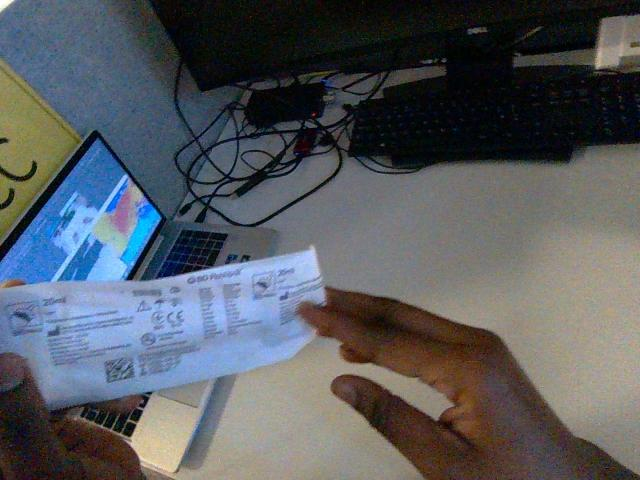syringe: (0, 247, 325, 409)
